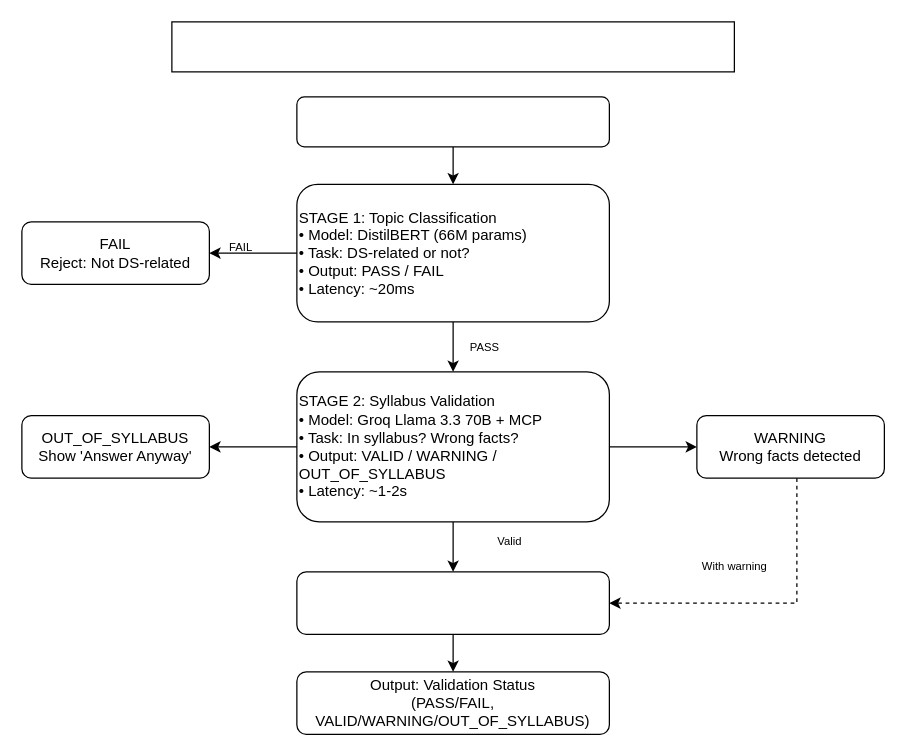
This 906x756 diagram has some shape labels left out. Here are the shapes that lost their labels. From the top down, the centre of each, then its label:
point (452, 46): MODULE 5: THREE-STAGE VALIDATION PIPELINE
point (452, 121): Input: Student Question
point (452, 602): VALID Proceed to Module 6
